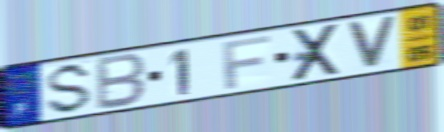1: (169, 47, 191, 97)
B: (94, 51, 149, 113)
F: (220, 33, 273, 91)
S: (43, 61, 95, 117)
V: (344, 14, 399, 70)
X: (289, 21, 343, 84)
